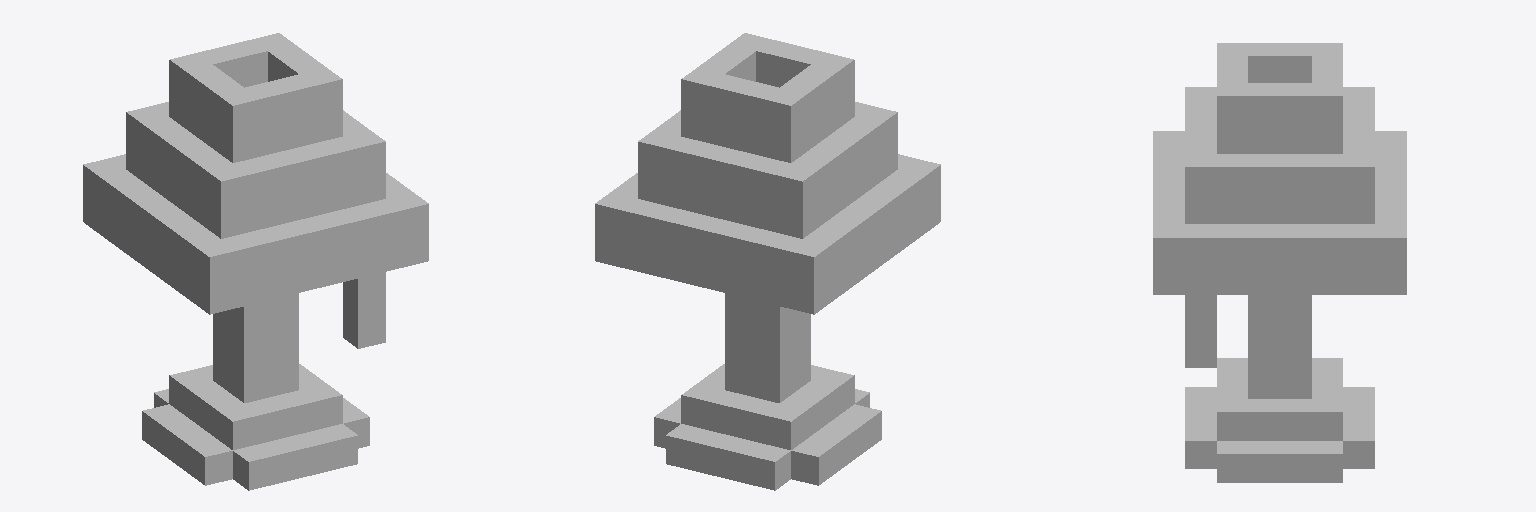
The model's file is lamp.obj.
The picture shows the model from 3 angles: view 1: azimuth 30°, elevation 25°; view 2: azimuth 150°, elevation 25°; view 3: azimuth 270°, elevation 25°; orthographic projection.
Parts seen in each view (by area): view 1: object 1; view 2: object 1; view 3: object 1.
Part boxes in pixels (left/top/right/bottom): object 1: left=83, top=33, right=428, bottom=490; object 1: left=595, top=33, right=940, bottom=490; object 1: left=1153, top=43, right=1406, bottom=482.
Bounding box in the file's own units: 0.8 × 1.3 × 0.8.